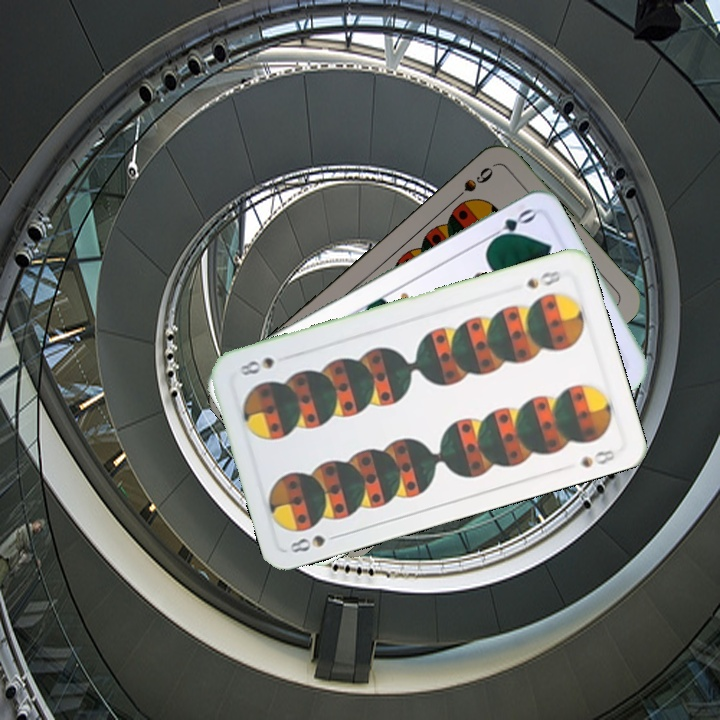GO: (482, 204, 538, 247)
S8: (286, 529, 344, 556), (522, 266, 563, 291)
S9: (447, 162, 496, 206)
